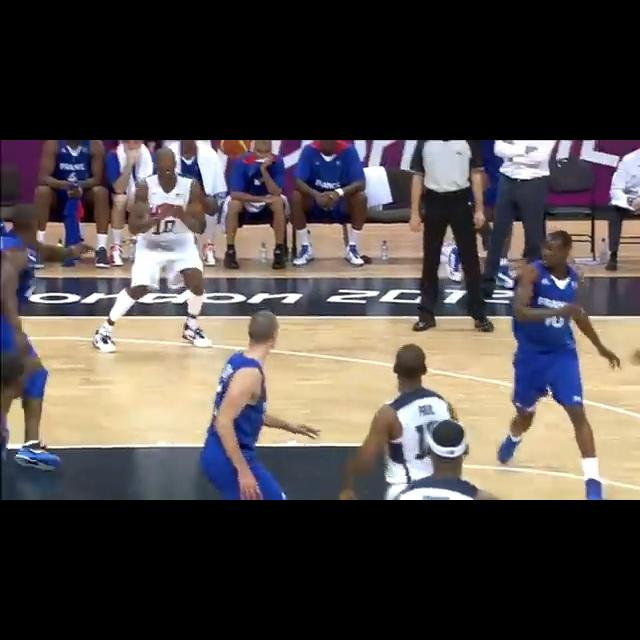basketball: (215, 140, 255, 160)
